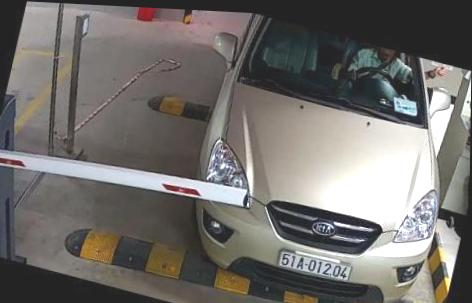License_Plate: (278, 245, 356, 290)
